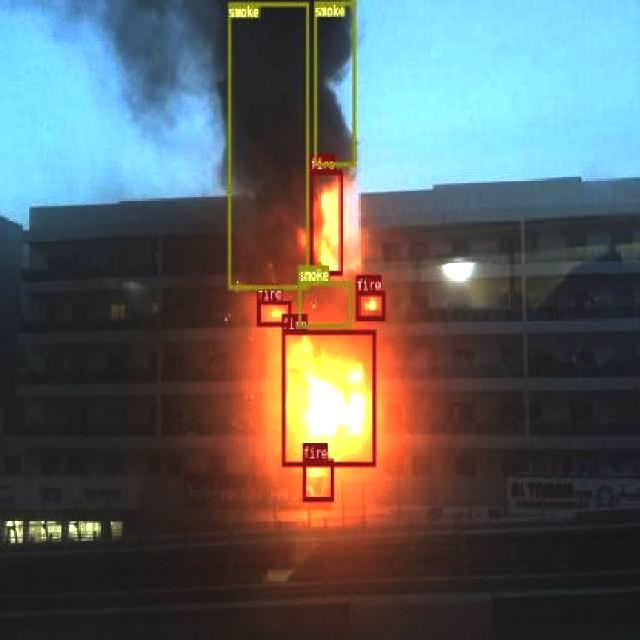fire: (282, 330, 376, 466), (309, 170, 342, 276), (302, 459, 333, 501), (256, 300, 290, 326), (356, 290, 384, 319)
smoke: (228, 2, 309, 290), (314, 1, 356, 166), (298, 281, 352, 327)
